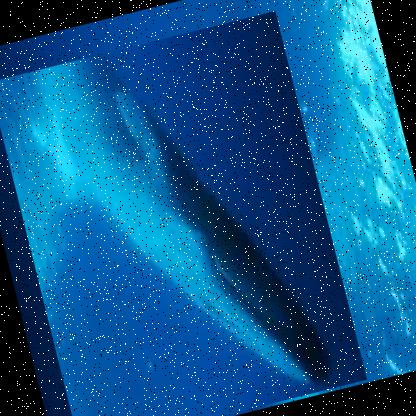blue_whale: (0, 11, 367, 415)
